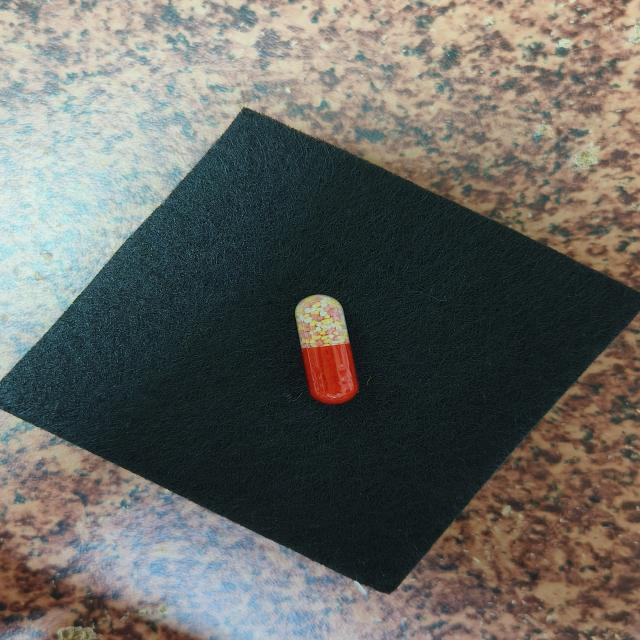Intact Capsule: (295, 294, 359, 404)
